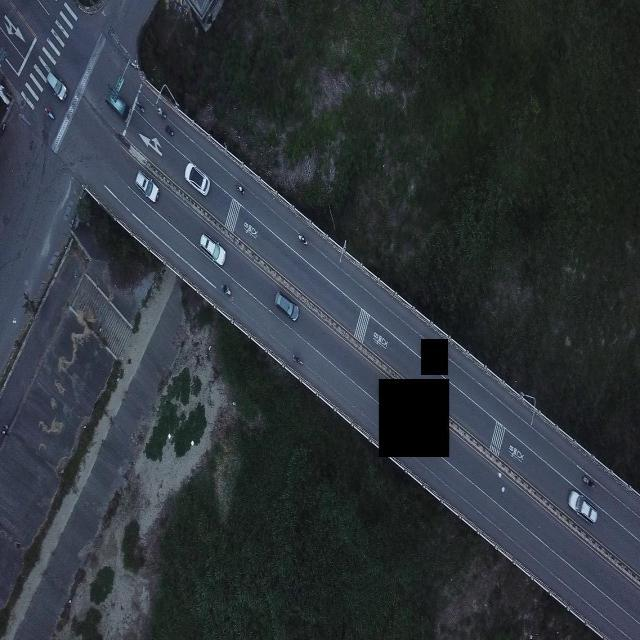bike: (292, 351, 304, 366), (222, 283, 232, 299), (136, 101, 145, 113)
car: (568, 489, 598, 524), (184, 161, 211, 196), (198, 232, 225, 265), (134, 169, 158, 203), (275, 290, 299, 322), (44, 69, 66, 100), (104, 90, 127, 118)
